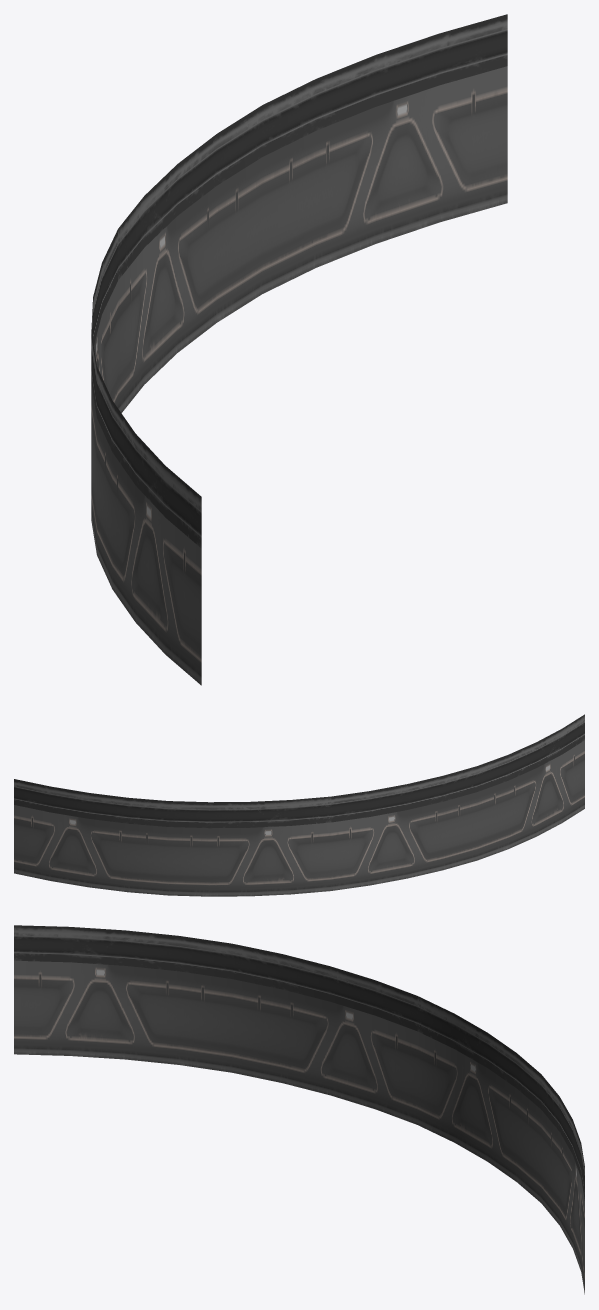
Rendered from short_wall_triangles_corner_inner.glb.
3 views of the same model, one above another, from view 1: azimuth 30°, elevation 25°; view 2: azimuth 150°, elevation 25°; view 3: azimuth 270°, elevation 25° (orthographic). The views are drawn at different scales.
Parts seen in each view (by area): view 1: ShortWall_Triangles_Corner_Inner; view 2: ShortWall_Triangles_Corner_Inner; view 3: ShortWall_Triangles_Corner_Inner.
Boxes of the visible parts, <box> form: ShortWall_Triangles_Corner_Inner: <box>91,14,507,685</box>; ShortWall_Triangles_Corner_Inner: <box>14,714,584,896</box>; ShortWall_Triangles_Corner_Inner: <box>14,925,584,1294</box>.
Bounding box in the file's own units: 4 × 0.9981 × 4.
1 material, 1 textured.
